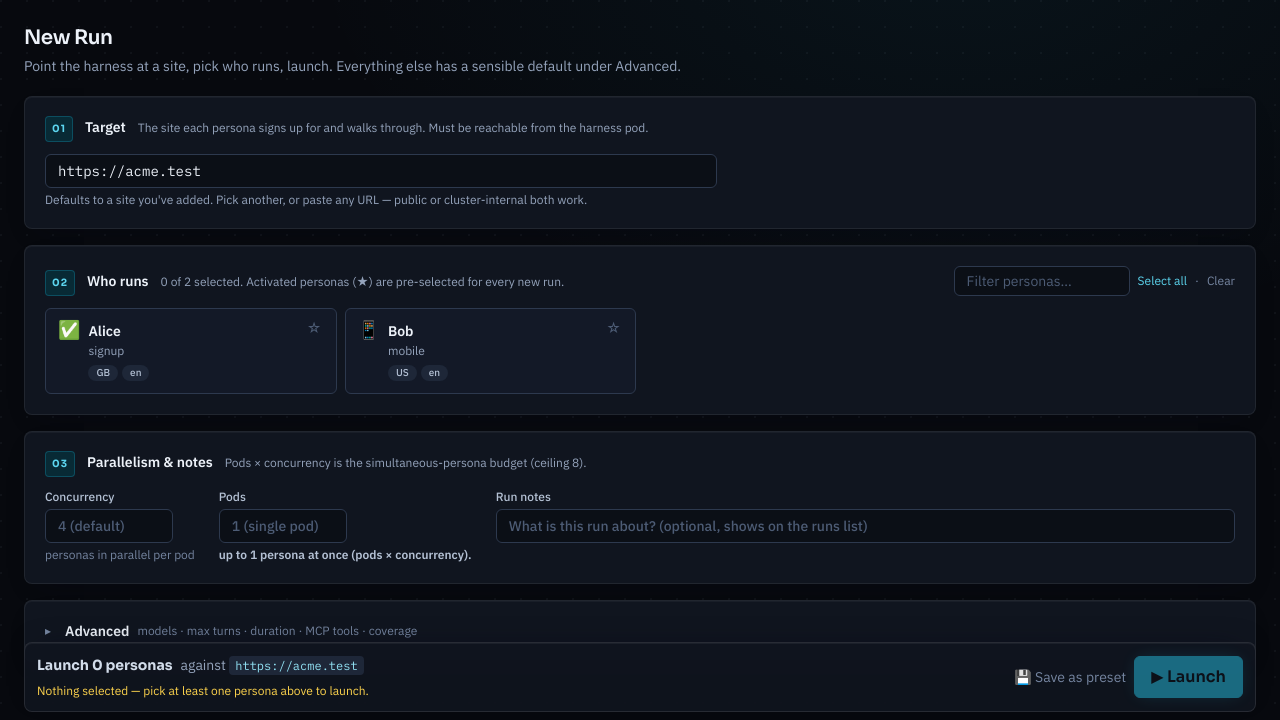
Test: <NewRun> — #1822 explicit selection pre-seeded from activation › hint disappears and Launch enables once a card is picked
Click the button "✅ Alice signup GB en ☆".
click(105, 331)  # box [45,308,336,394]
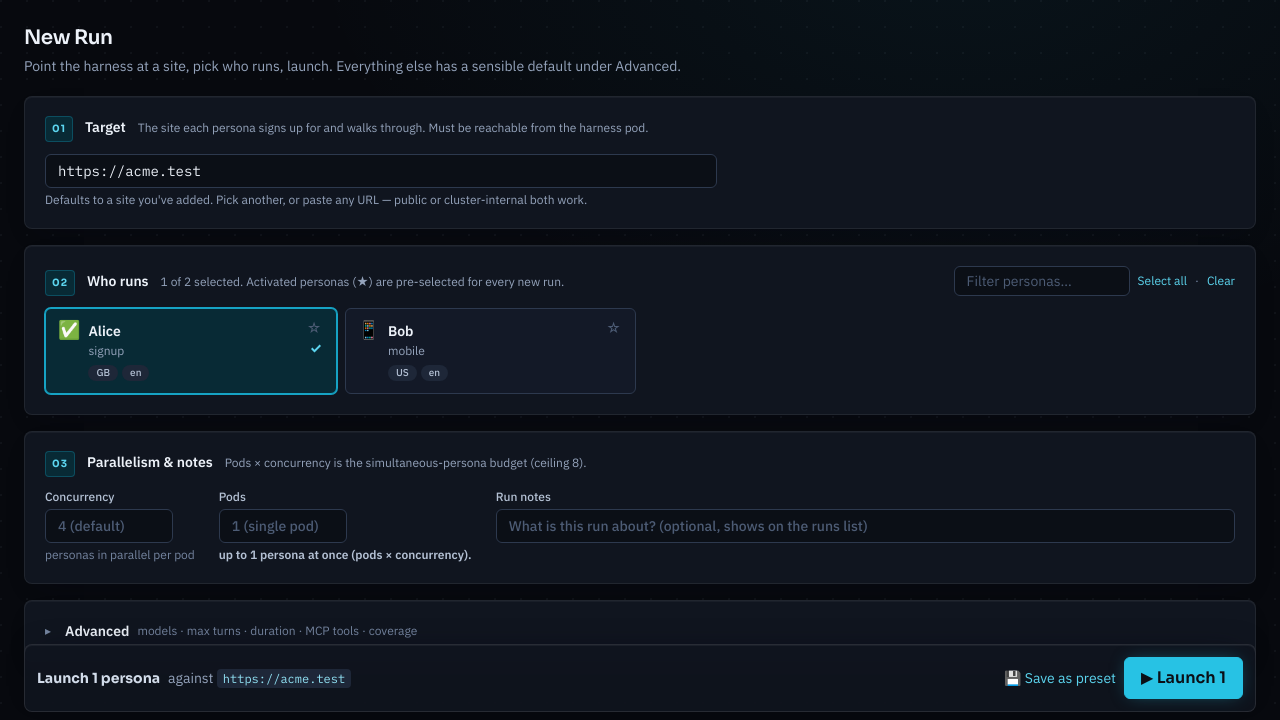
Check: the button with test id "cta-start" is enabled, box [1124,657,1243,699]
Check: the button with test id "cta-start" reads "▶ Launch 1", box [1124,657,1243,699]
